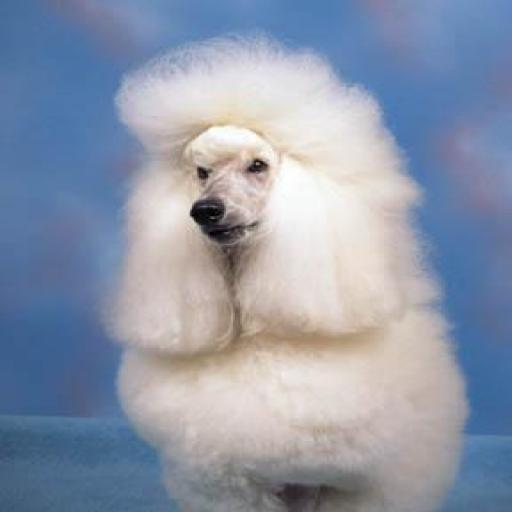dog_face: (108, 62, 415, 347)
